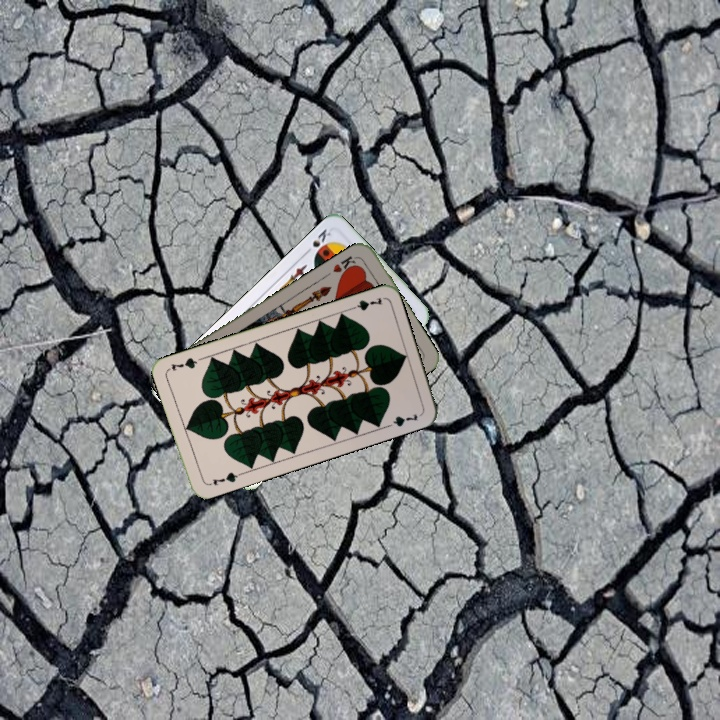G7: (345, 293, 385, 313), (204, 468, 243, 488)
HK: (329, 252, 361, 279)
SK: (300, 225, 333, 257)
